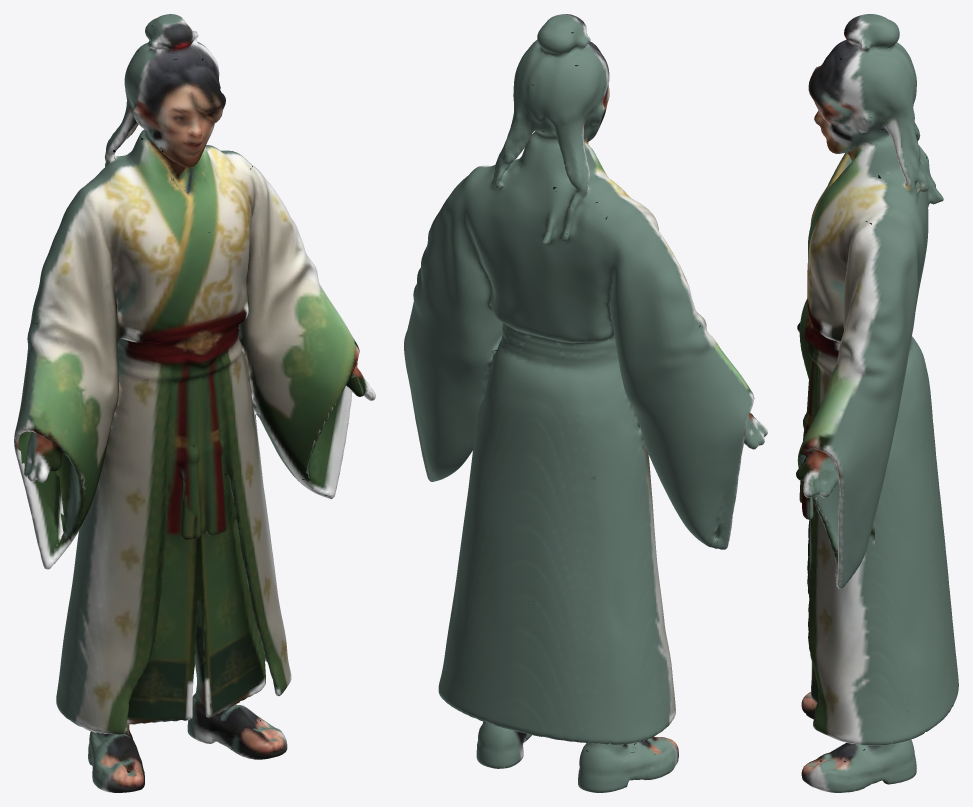
File: projection-diagnostic.glb
3 renders of one model, left to right at view 1: azimuth 30°, elevation 25°; view 2: azimuth 150°, elevation 25°; view 3: azimuth 270°, elevation 25°, orthographic.
Parts seen in each view (by area): view 1: world; view 2: world; view 3: world.
Part boxes in pixels (x1,y1,x2,y2): world: (14, 14, 375, 792); world: (404, 14, 767, 792); world: (796, 14, 958, 792).
Size of the model in its own units: 0.9557 by 1.96 by 0.3945.
1 material, 1 textured.
